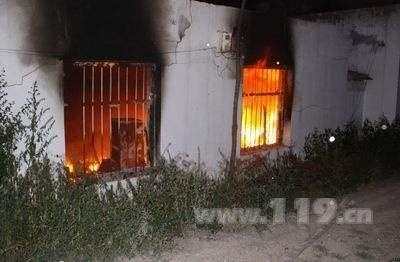fire: (239, 58, 285, 148), (65, 152, 106, 172)
